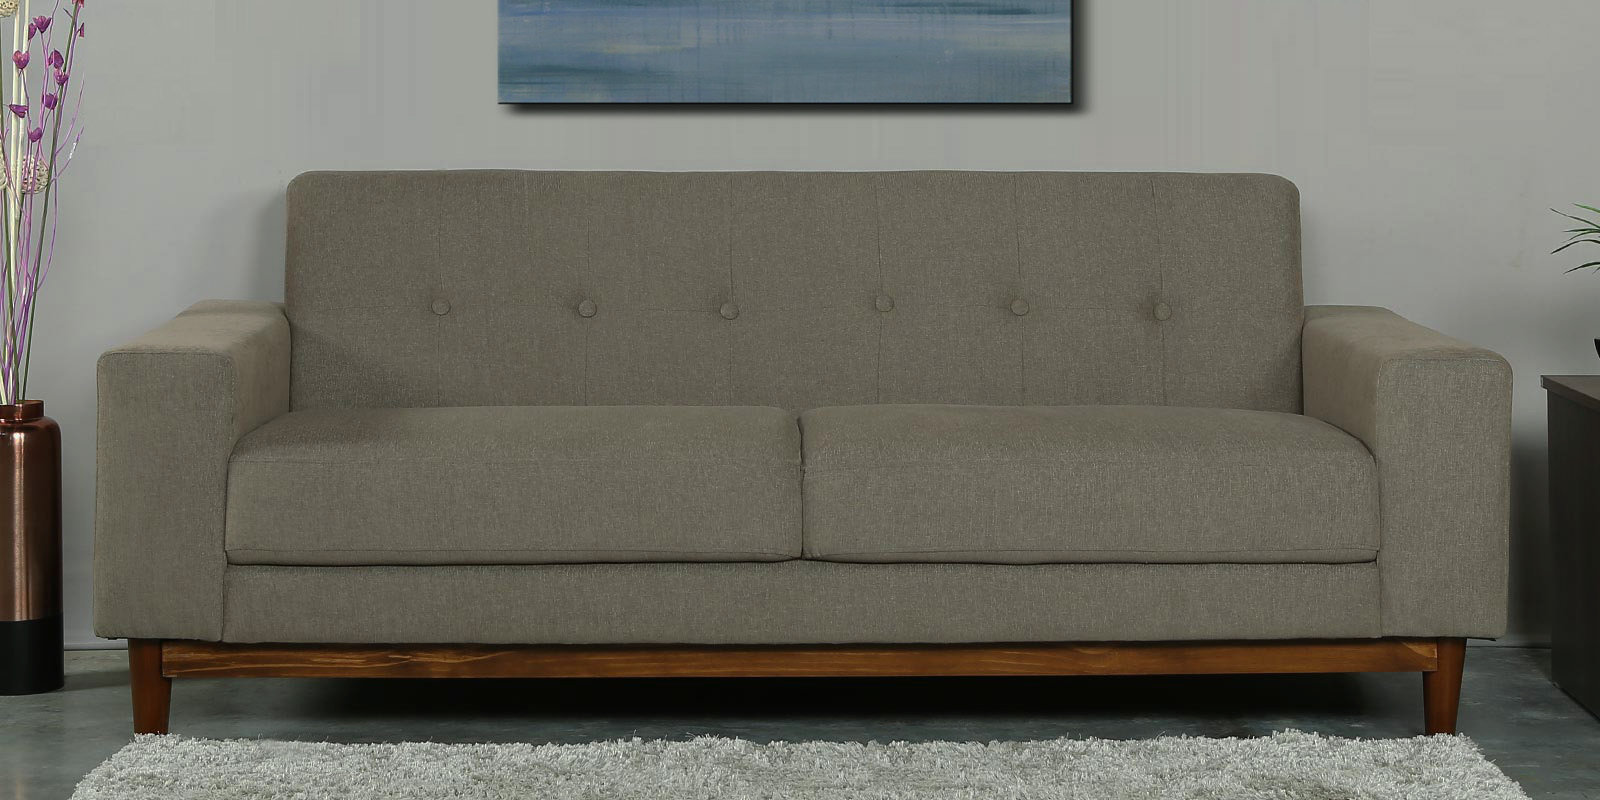Cordoba Three Seater Sofa in Sandy Brown Colour by CasaCraft: (94, 155, 1521, 730)
